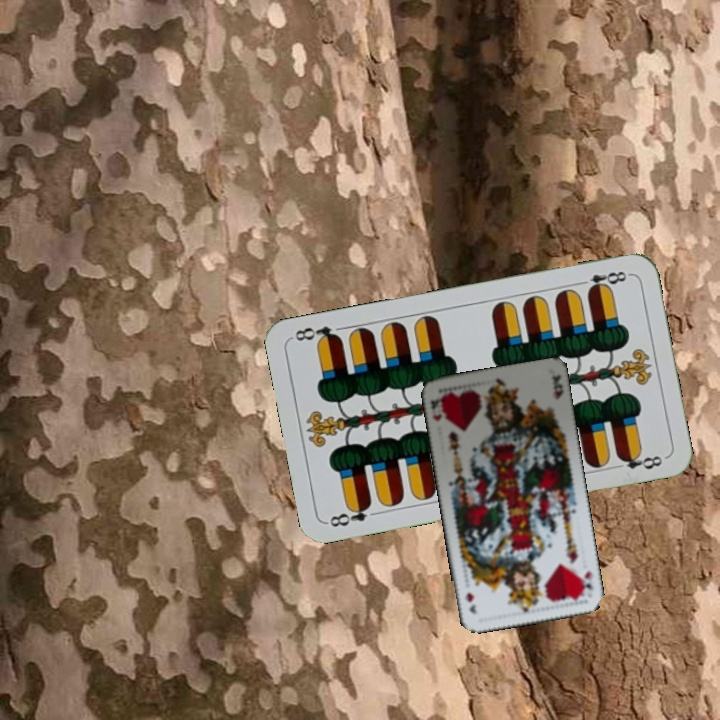E8: (573, 267, 632, 295), (324, 498, 374, 530)
HK: (426, 392, 448, 424), (577, 566, 595, 599)
